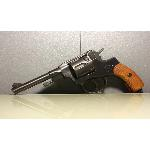Pistol: (5, 48, 144, 98)
